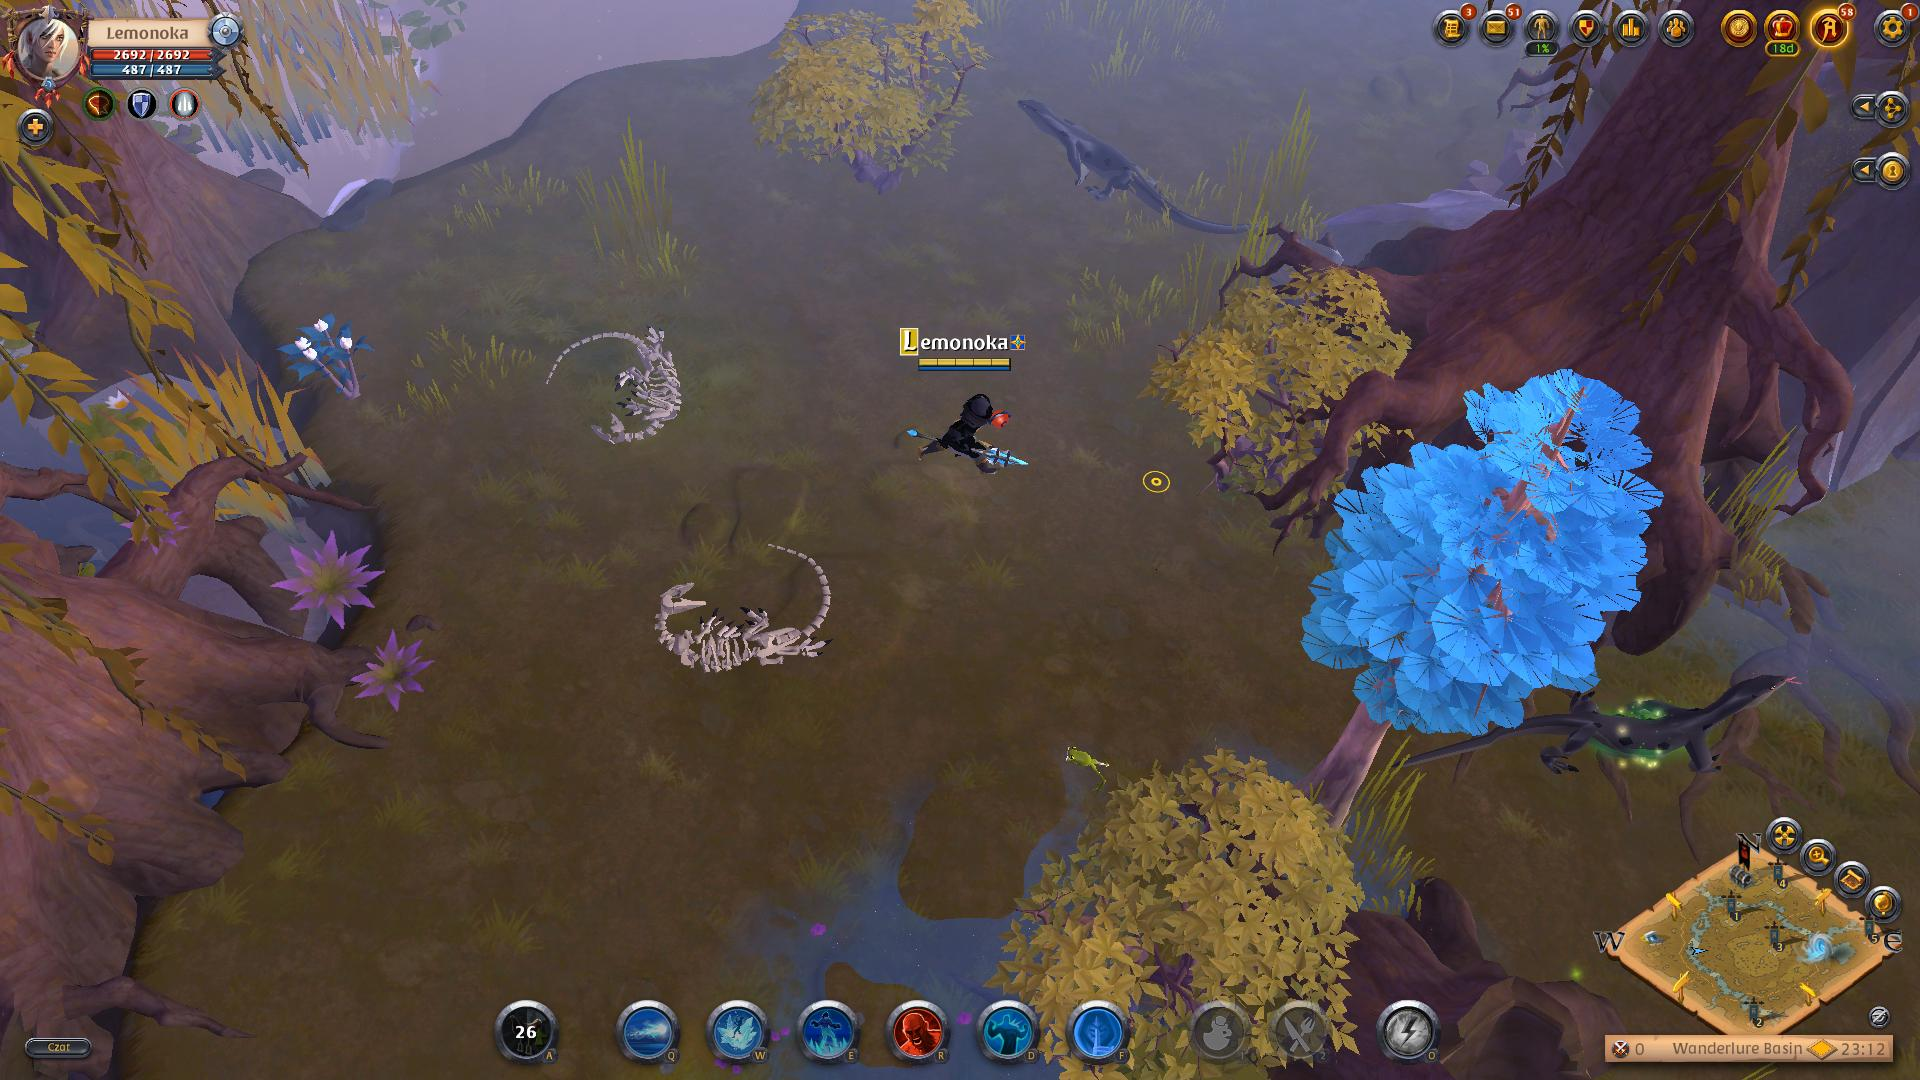fiber tier 4: (273, 307, 384, 405)
wood tier 4: (1302, 364, 1669, 744)
